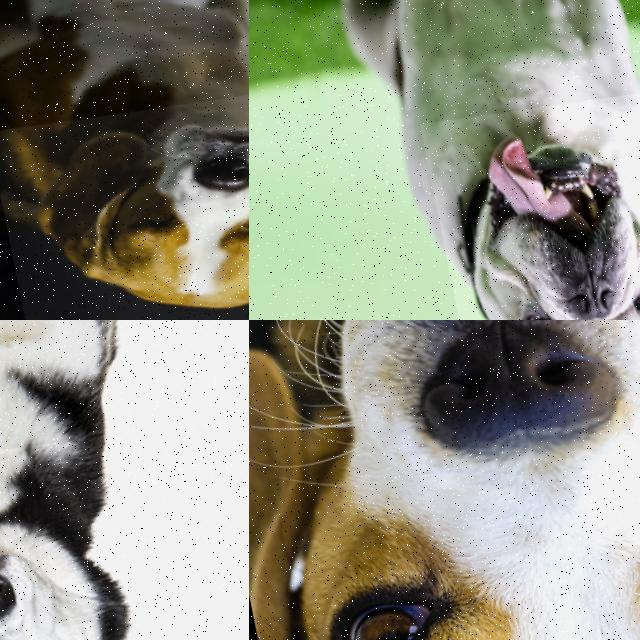beagle: (249, 320, 640, 640), (0, 58, 249, 320)
bulldog: (418, 77, 640, 320)
husky: (0, 414, 207, 640)
